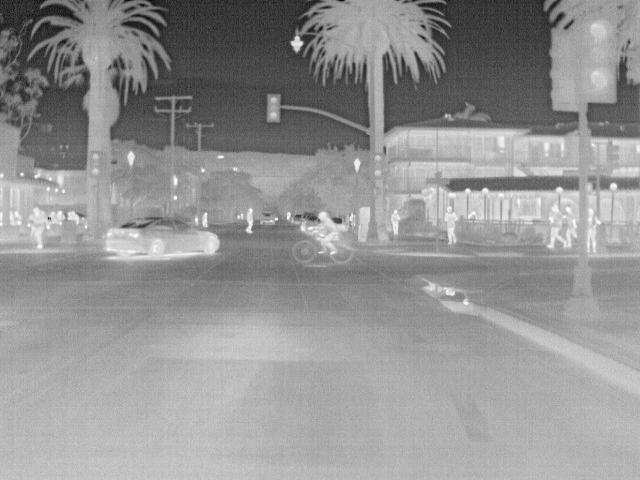car: (104, 218, 221, 258), (299, 211, 317, 231), (258, 210, 275, 226), (305, 214, 322, 228), (291, 213, 307, 225)
person: (303, 212, 339, 256), (544, 204, 565, 248), (27, 206, 48, 248), (563, 204, 580, 248), (443, 204, 459, 246), (587, 206, 600, 250), (242, 204, 257, 234), (389, 208, 402, 237), (52, 208, 67, 224), (67, 209, 81, 225), (200, 210, 210, 229)
